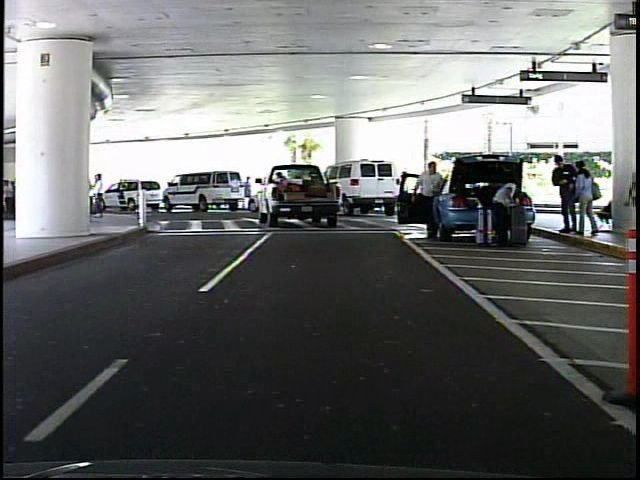person: (409, 160, 448, 241), (485, 171, 524, 250), (550, 152, 577, 239), (571, 159, 600, 238), (619, 155, 640, 236), (242, 174, 256, 211)
